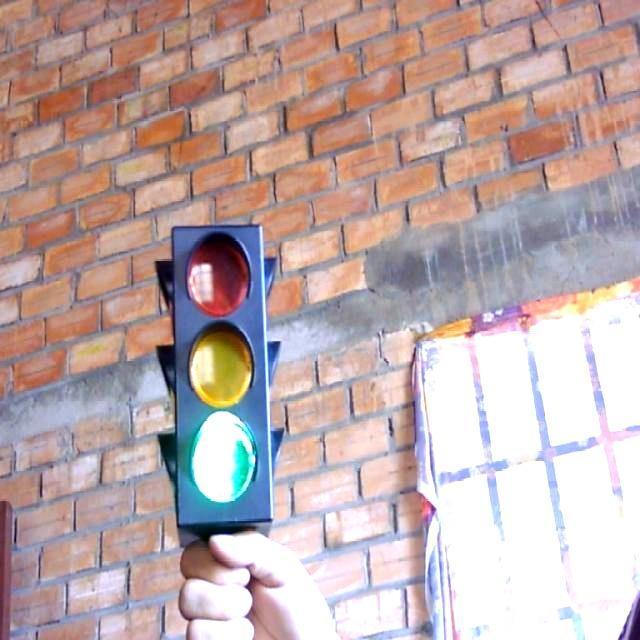Green: (156, 213, 291, 529)
